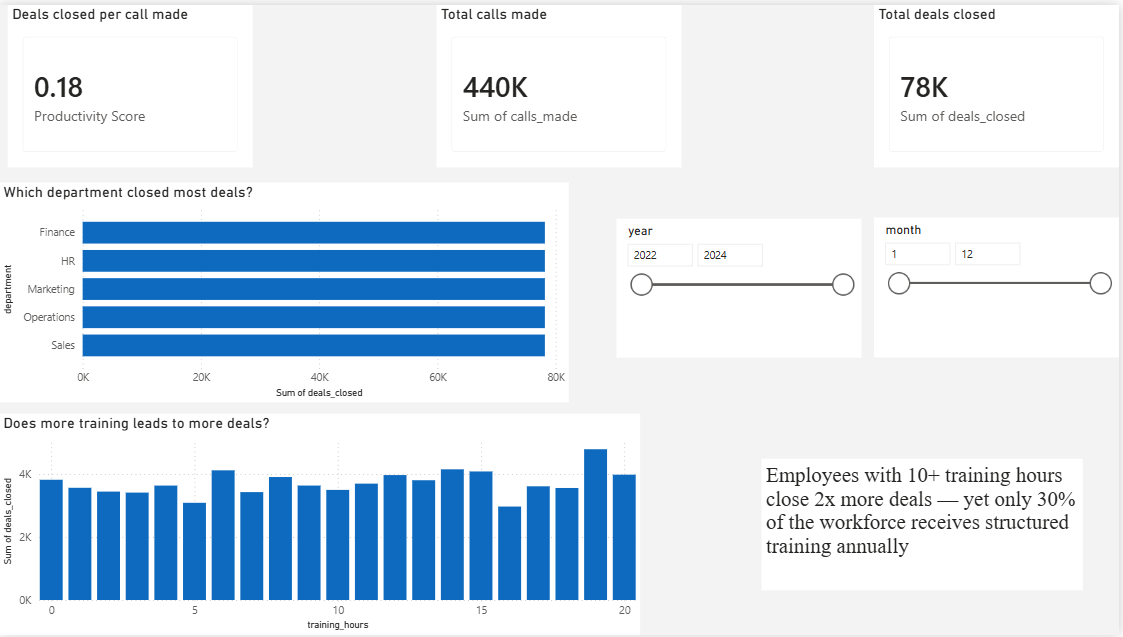

This screenshot's page, from the dashboard's own definition file:
{"tool":"powerbi","page":{"name":"Productivity","canvas":[1280,720],"ordinal":3},"visuals":[{"type":"cardVisual","title":"Deals closed per call made","fields":{"Data":["hr_analytics_db employees.Productivity Score"]},"box":[10,0,280,185.7],"z":0},{"type":"cardVisual","title":"Total calls made","fields":{"Data":["Sum(hr_analytics_db productivity.calls_made)"]},"box":[500,0,280,185.7],"z":1000},{"type":"cardVisual","title":"Total deals closed","fields":{"Data":["Sum(hr_analytics_db productivity.deals_closed)"]},"box":[1000,0,280,185.7],"z":2000},{"type":"clusteredBarChart","title":"Which department closed most deals?","fields":{"Category":["hr_analytics_db headcount.department"],"Y":["Sum(hr_analytics_db productivity.deals_closed)"]},"box":[0,202.9,651.4,251.4],"z":3000},{"type":"clusteredColumnChart","title":"Does more training leads to more deals?","fields":{"Category":["hr_analytics_db productivity.training_hours"],"Y":["Sum(hr_analytics_db productivity.deals_closed)"]},"box":[0,467.1,732.9,252.9],"z":3001},{"type":"slicer","fields":{"Values":["hr_analytics_db productivity.year"]},"box":[705.7,244.3,280,158.6],"z":3002},{"type":"slicer","fields":{"Values":["hr_analytics_db productivity.month"]},"box":[1000,242.9,280,160],"z":3003},{"type":"textbox","box":[871.4,518.6,367.1,150],"z":3004}]}

Visuals, with their boxes in screenshot pixels (x1, y1, x2, y2), scaled from the page's 1280x720 canvas onto the 1123x637 screenshot:
"Deals closed per call made" cardVisual: x1=9, y1=0, x2=254, y2=164
"Total calls made" cardVisual: x1=439, y1=0, x2=684, y2=164
"Total deals closed" cardVisual: x1=877, y1=0, x2=1122, y2=164
"Which department closed most deals?" clusteredBarChart: x1=0, y1=180, x2=572, y2=402
"Does more training leads to more deals?" clusteredColumnChart: x1=0, y1=413, x2=643, y2=636
slicer - hr_analytics_db productivity.year: x1=619, y1=216, x2=865, y2=356
slicer - hr_analytics_db productivity.month: x1=877, y1=215, x2=1122, y2=356
textbox: x1=765, y1=459, x2=1087, y2=592
